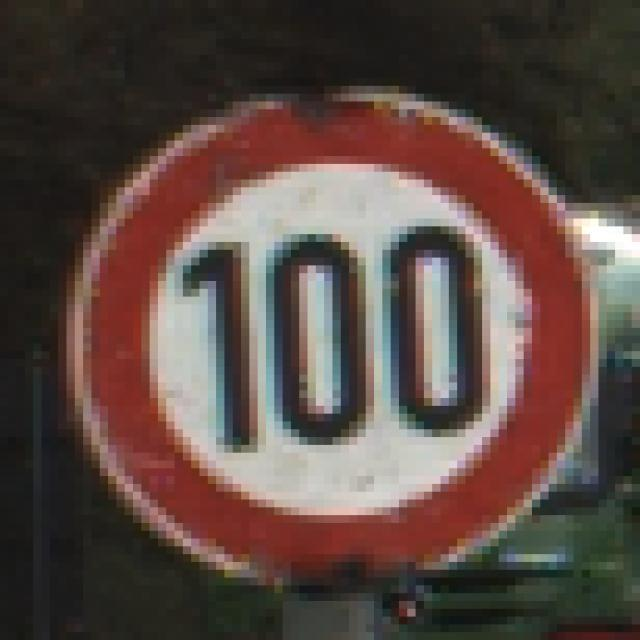speed limit 100: (55, 77, 614, 591)
